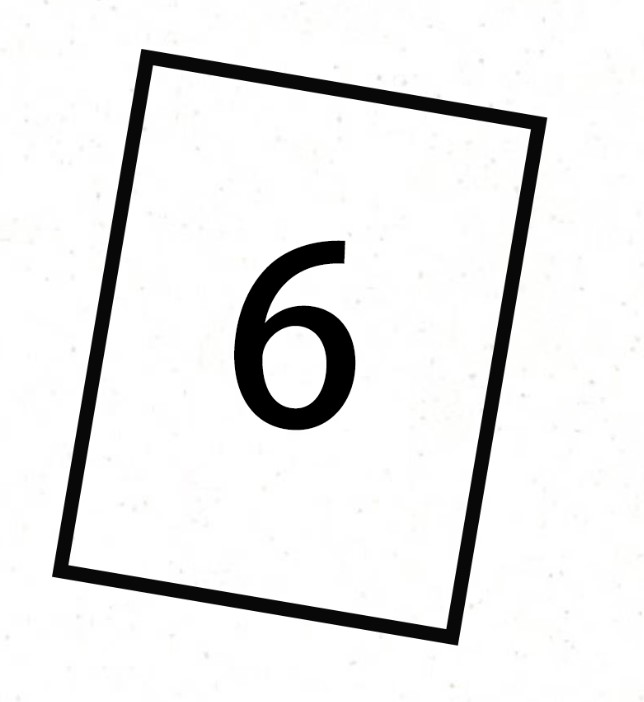six: (185, 161, 439, 519)
